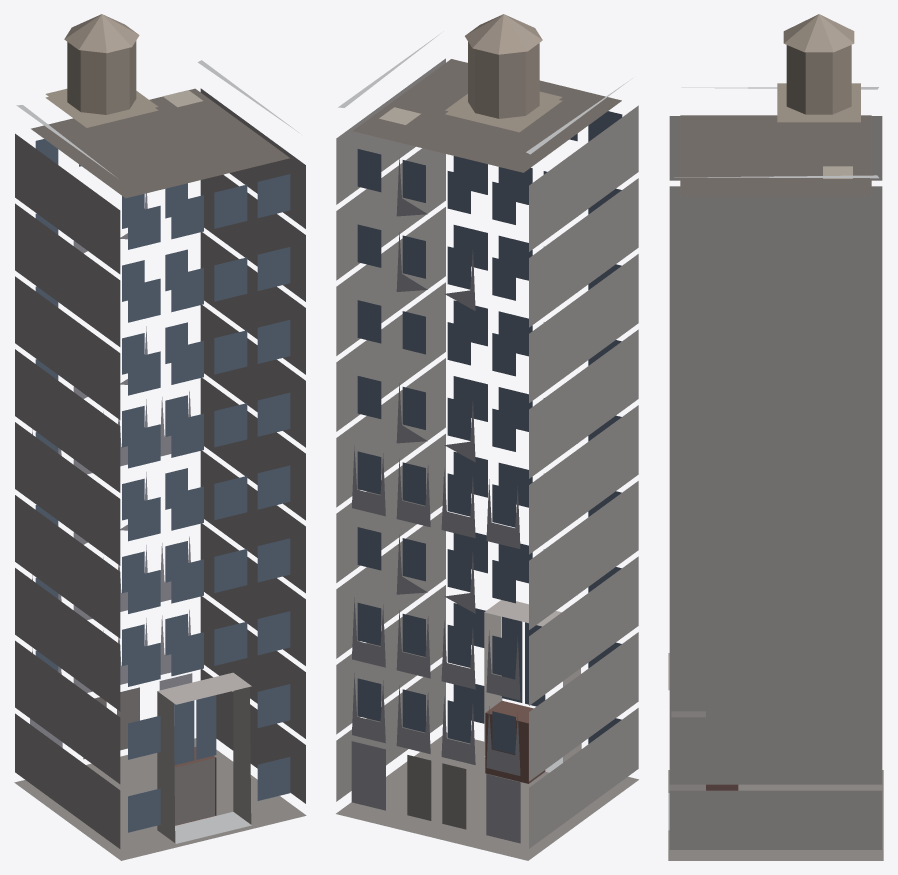
File: city_office.lod.glb
3 renders of one model, left to right at view 1: azimuth 30°, elevation 25°; view 2: azimuth 150°, elevation 25°; view 3: azimuth 270°, elevation 25°, orthographic. The views are drawn at different scales.
Visible parts, largest first — view 1: city_office; view 2: city_office; view 3: city_office.
Boxes of the visible parts, x1,y1,x2,y2 form: city_office: (14,14,306,860); city_office: (336,14,638,860); city_office: (668,14,883,860).
Size of the model in its own units: 10.98 by 44 by 10.98.
